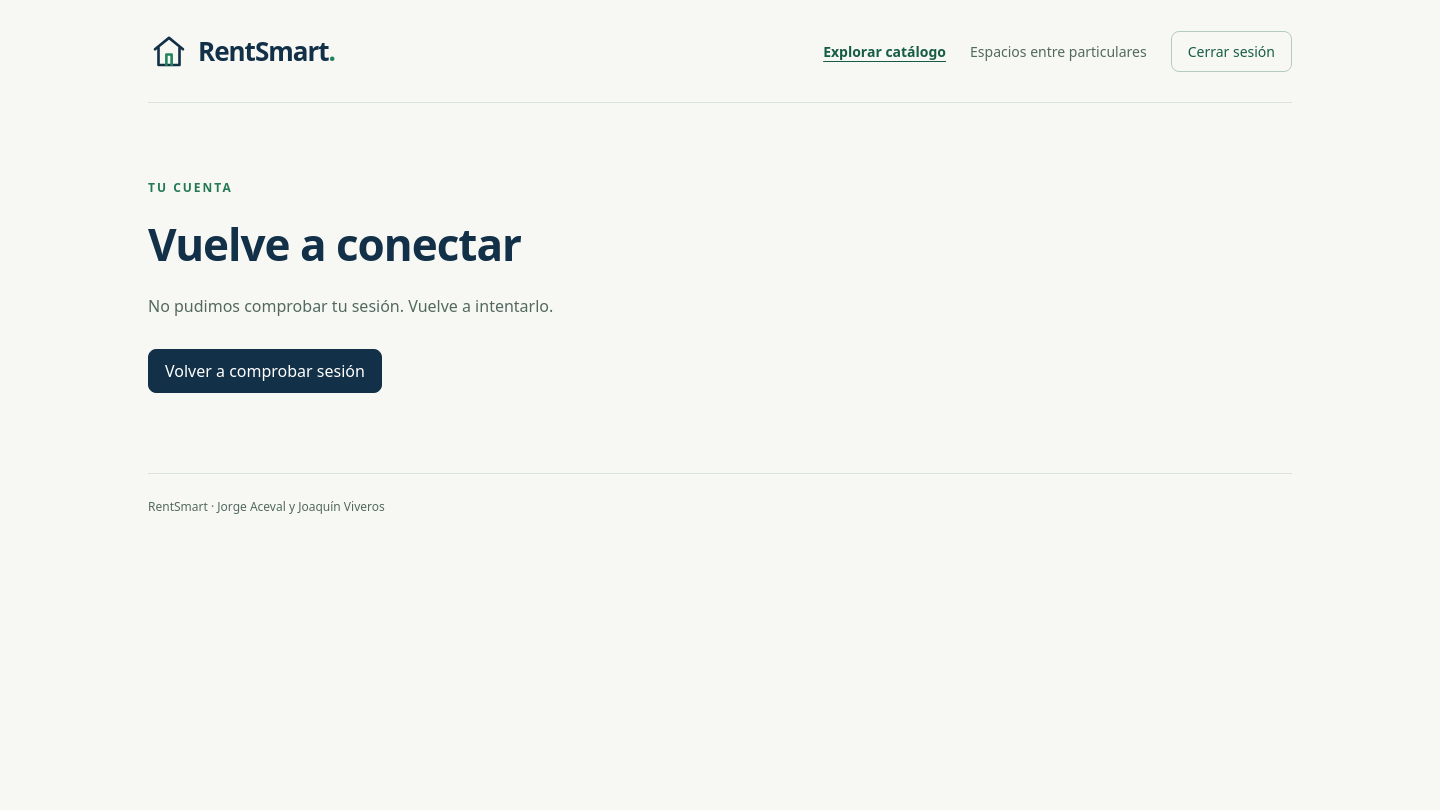
Test case: HU02 CP-03: conserva el token ante un error de red y muestra la vista privada solo tras revalidar
Expected: the message reads "No pudimos comprobar tu sesión. Vuelve a intentarlo.", [148,295,553,317]
Expected: the heading "Mis espacios" is not shown
Click the button "Volver a comprobar sesión": [265, 371] box [148,349,382,393]
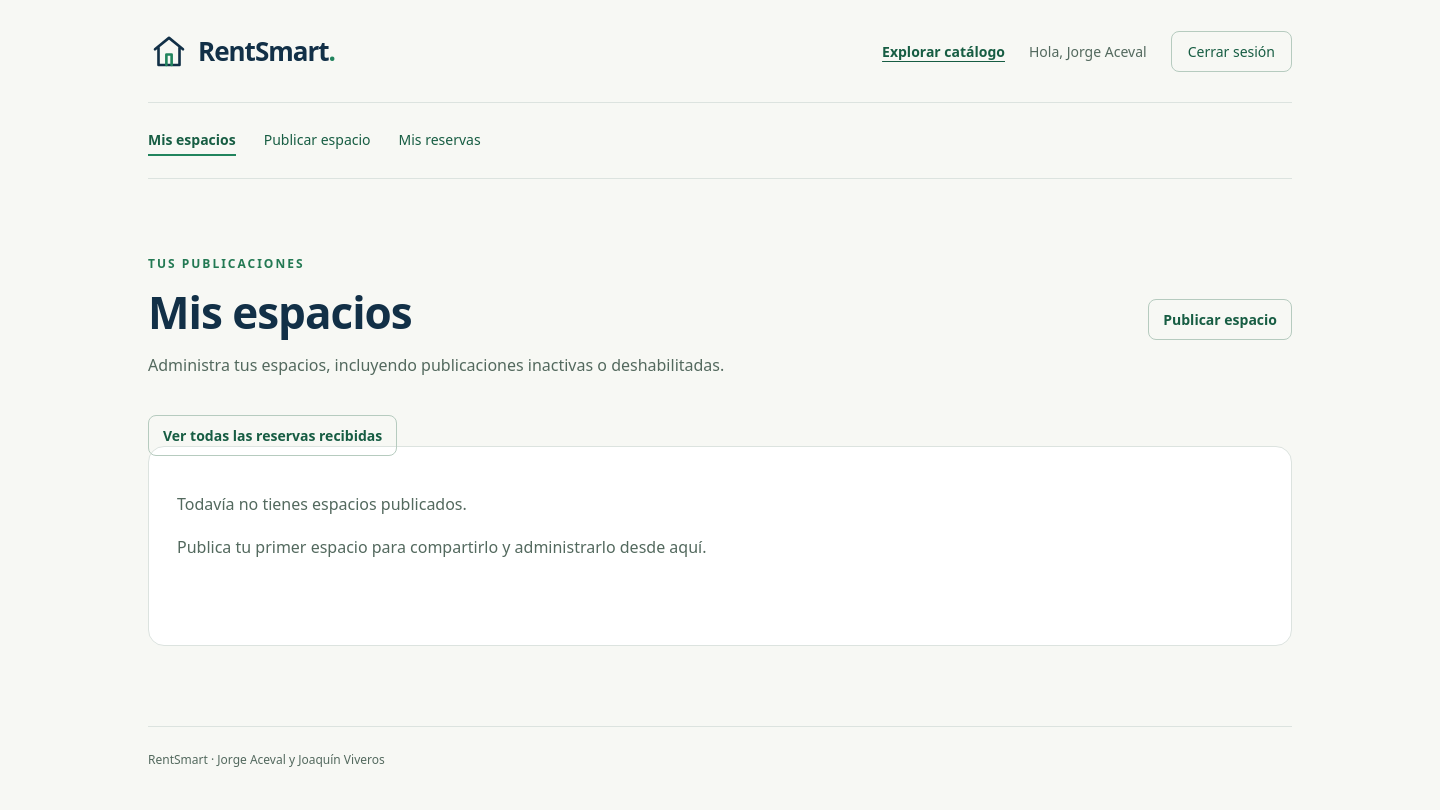
Expected: the heading "Mis espacios" is shown, [148,282,412,342]
Expected: the text "Hola, Jorge Aceval" is shown, [1029,42,1147,60]
